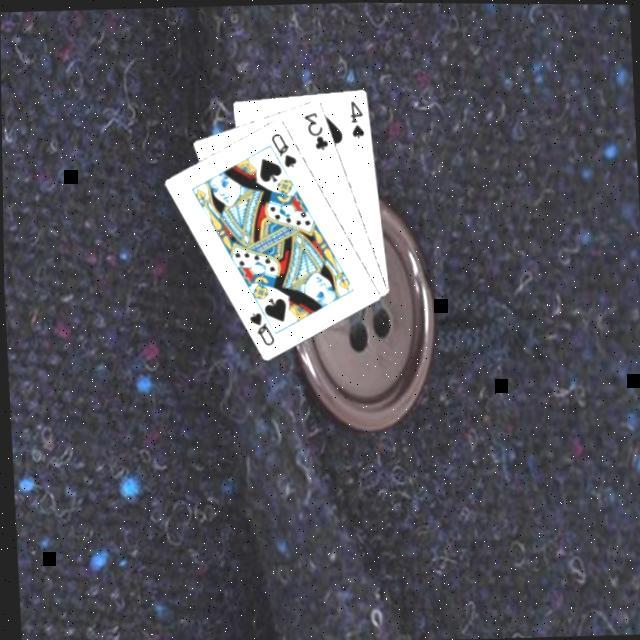3C: (297, 108, 330, 153)
4S: (343, 96, 366, 141)
QS: (265, 129, 297, 171), (242, 308, 274, 349)
